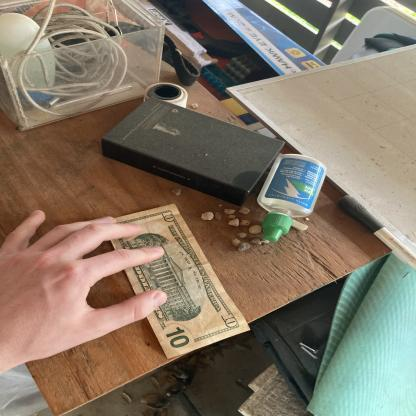ten-back: (101, 204, 252, 359)
